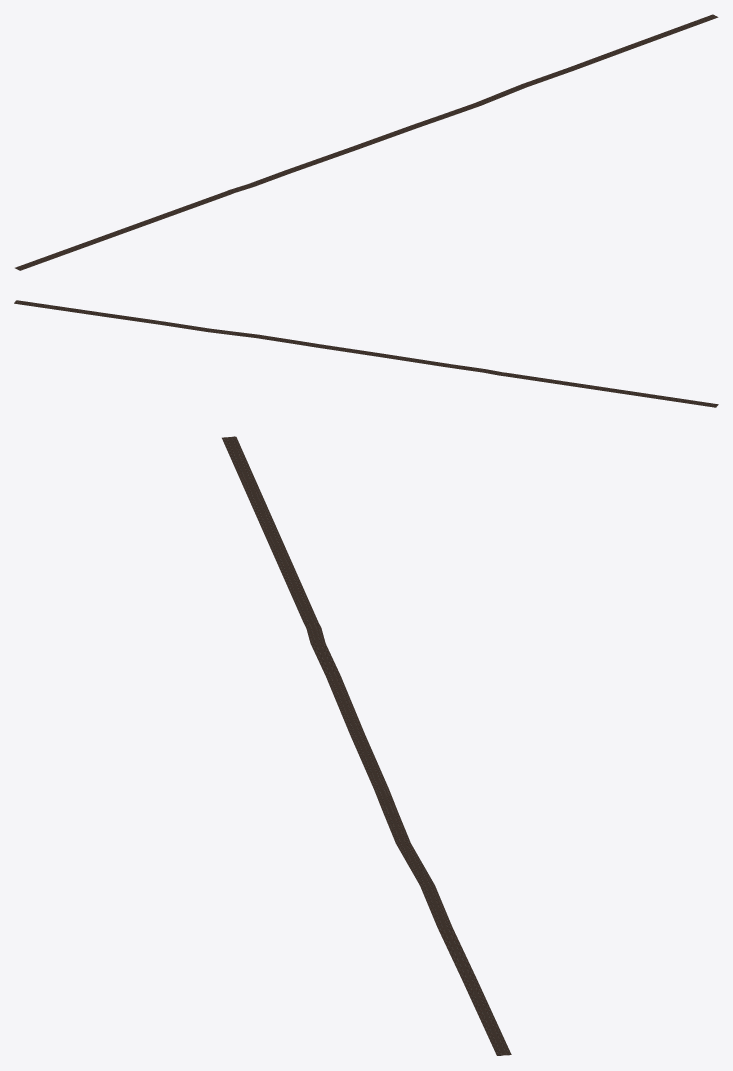
The model's file is kobe_0021.glb.
3 renders of one model, top to bottom at view 1: azimuth 30°, elevation 25°; view 2: azimuth 150°, elevation 25°; view 3: azimuth 270°, elevation 25°, orthographic. The views are drawn at different scales.
Parts seen in each view (by area): view 1: ballast_top, oxidised_rail_profiles; view 2: ballast_top, oxidised_rail_profiles, ballast_left; view 3: ballast_top, oxidised_rail_profiles.
Boxes of the visible parts, bbox=[...] form: ballast_top: bbox=[15, 14, 718, 270]; oxidised_rail_profiles: bbox=[16, 14, 717, 270]; ballast_top: bbox=[14, 300, 717, 407]; oxidised_rail_profiles: bbox=[14, 300, 718, 406]; ballast_left: bbox=[14, 303, 715, 407]; ballast_top: bbox=[222, 436, 511, 1055]; oxidised_rail_profiles: bbox=[224, 436, 509, 1055].
Size of the model in its own units: 743 by 0.819 by 148.
Materials: 4 (3 with a texture image).
